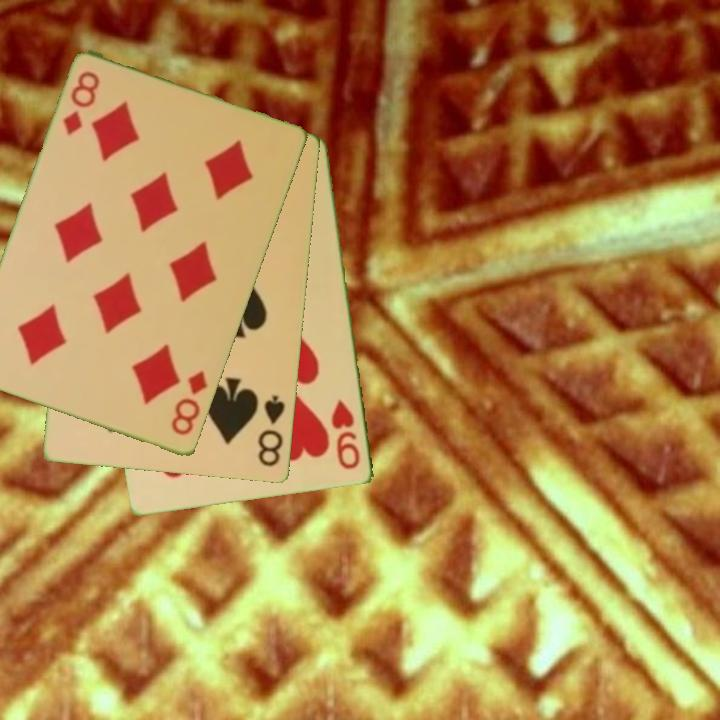8d: (168, 367, 211, 439), (60, 68, 103, 139)
8s: (255, 392, 288, 470)
9h: (328, 396, 363, 473)
